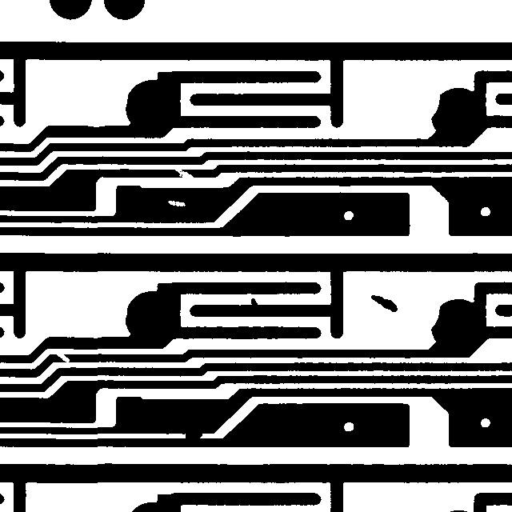copper: (363, 287, 405, 319)
open: (167, 161, 201, 186), (49, 346, 77, 370)
pin-hole: (160, 193, 193, 214)
short: (178, 422, 210, 448)
spur: (243, 290, 265, 316)
